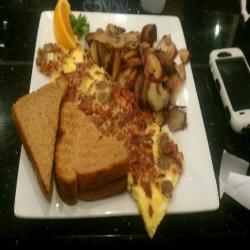bread: (10, 88, 131, 205)
